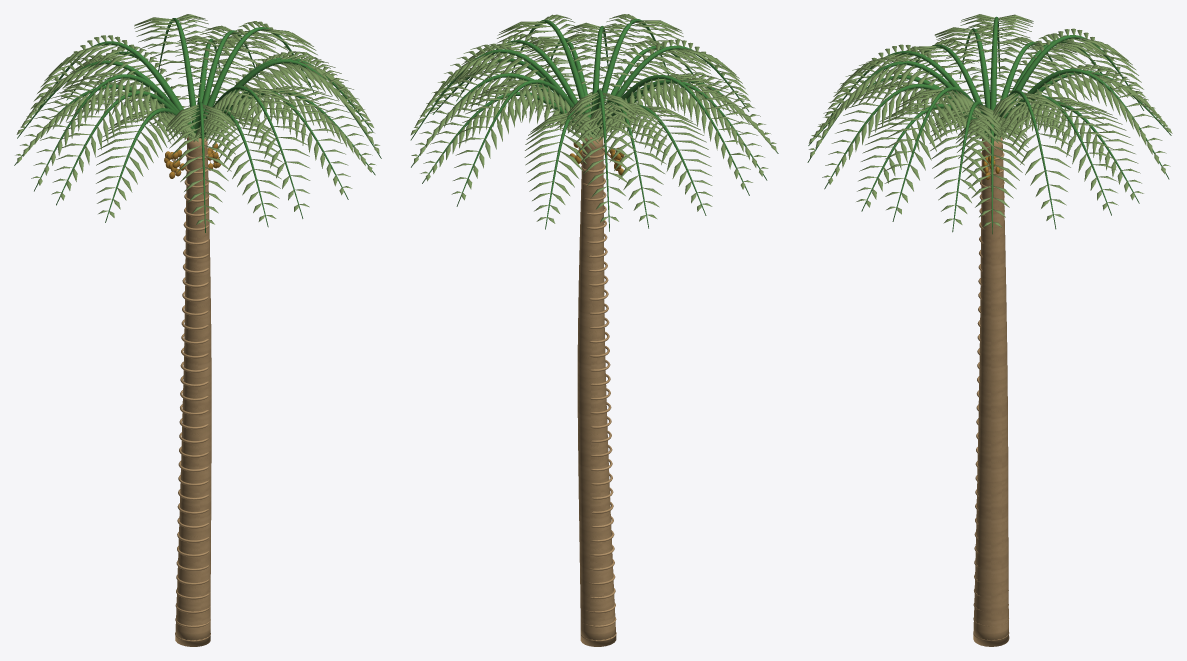
File: la-palm.glb
3 renders of one model, left to right at view 1: azimuth 30°, elevation 25°; view 2: azimuth 150°, elevation 25°; view 3: azimuth 270°, elevation 25°, orthographic.
Visible parts, largest first — view 1: Date palm feather leaflets, Date bunch supporting stalk, Date palm frond stem, Date fruit cluster; view 2: Date palm feather leaflets, Date bunch supporting stalk, Date palm frond stem; view 3: Date palm feather leaflets, Date bunch supporting stalk, Date palm frond stem.
Part boxes in pixels (bbox=[...]): Date palm feather leaflets: bbox=[15, 14, 379, 224]; Date bunch supporting stalk: bbox=[170, 137, 213, 646]; Date palm frond stem: bbox=[14, 18, 381, 232]; Date fruit cluster: bbox=[164, 143, 220, 178]; Date palm feather leaflets: bbox=[410, 14, 776, 223]; Date bunch supporting stalk: bbox=[575, 137, 616, 646]; Date palm frond stem: bbox=[410, 19, 778, 231]; Date palm feather leaflets: bbox=[809, 14, 1172, 227]; Date bunch supporting stalk: bbox=[973, 137, 1009, 646]; Date palm frond stem: bbox=[807, 16, 1171, 234].
Bounding box in the file's own units: 6.91 × 12 × 6.8.
Materials: 4 (4 with a texture image).
